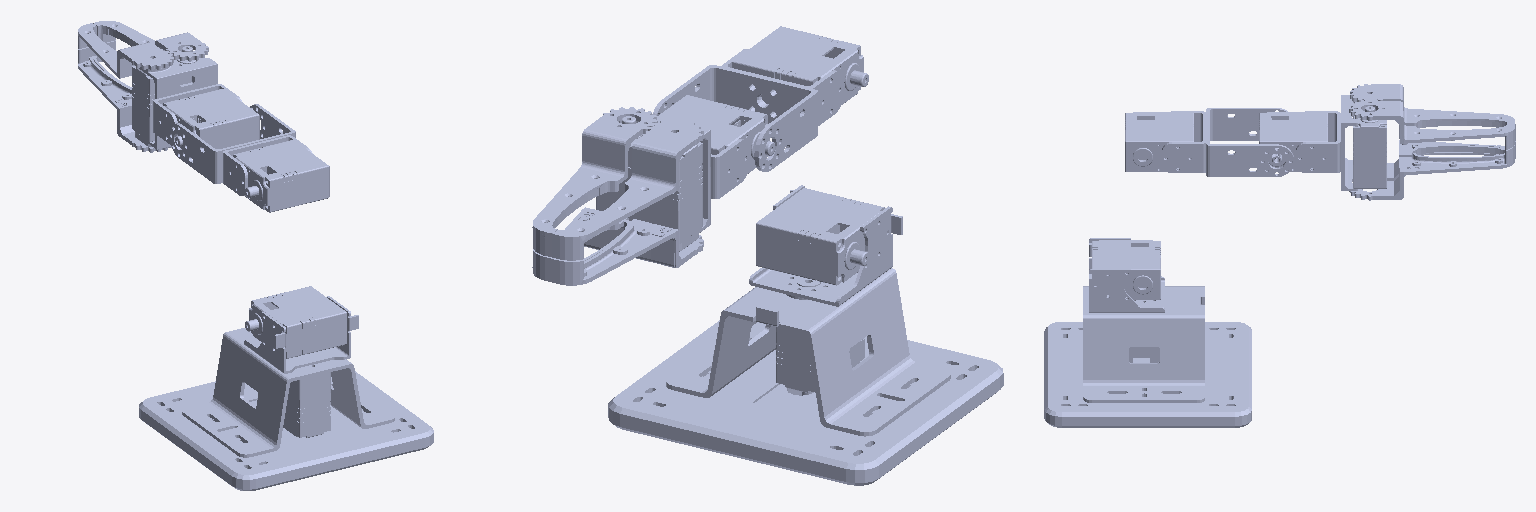
URDF robot description (test4_dof):
<?xml version="1.0" encoding="utf-8"?>
<!-- This URDF was automatically created by SolidWorks to URDF Exporter! Originally created by [author] ([email redacted]) 
     Commit Version: 1.6.0-4-g7f85cfe  Build Version: 1.6.7995.38578
     For more information, please see http://wiki.ros.org/sw_urdf_exporter -->
<robot
  name="test4_dof">
  <link
    name="base_link">
    <inertial>
      <origin
        xyz="6.91778333546156E-09 -0.000987638055765809 0.00969950688294337"
        rpy="0 0 0" />
      <mass
        value="0.170234591037879" />
      <inertia
        ixx="0.000190344867929517"
        ixy="-1.49585044599948E-11"
        ixz="-2.8775220588689E-12"
        iyy="0.000209895117595717"
        iyz="-4.25280510149572E-08"
        izz="0.000385505347421722" />
    </inertial>
    <visual>
      <origin
        xyz="0 0 0"
        rpy="0 0 0" />
      <geometry>
        <mesh
          filename="package://test4_dof/meshes/base_link.STL" />
      </geometry>
      <material
        name="">
        <color
          rgba="0.792156862745098 0.819607843137255 0.933333333333333 1" />
      </material>
    </visual>
    <collision>
      <origin
        xyz="0 0 0"
        rpy="0 0 0" />
      <geometry>
        <mesh
          filename="package://test4_dof/meshes/base_link.STL" />
      </geometry>
    </collision>
  </link>
  <link
    name="link0">
    <inertial>
      <origin
        xyz="-0.000148686471246825 -0.0108477499496043 0.0127257064637936"
        rpy="0 0 0" />
      <mass
        value="0.0134533721751118" />
      <inertia
        ixx="2.84098753200003E-06"
        ixy="-3.43071595594826E-09"
        ixz="5.30738424474808E-11"
        iyy="2.18307388098522E-06"
        iyz="2.00194190669691E-07"
        izz="3.55990656348061E-06" />
    </inertial>
    <visual>
      <origin
        xyz="0 0 0"
        rpy="0 0 0" />
      <geometry>
        <mesh
          filename="package://test4_dof/meshes/link0.STL" />
      </geometry>
      <material
        name="">
        <color
          rgba="0.792156862745098 0.819607843137255 0.933333333333333 1" />
      </material>
    </visual>
    <collision>
      <origin
        xyz="0 0 0"
        rpy="0 0 0" />
      <geometry>
        <mesh
          filename="package://test4_dof/meshes/link0.STL" />
      </geometry>
    </collision>
  </link>
  <joint
    name="joint0"
    type="revolute">
    <origin
      xyz="0 -0.0025385993980081 0.0537499999998391"
      rpy="0 0 0" />
    <parent
      link="base_link" />
    <child
      link="link0" />
    <axis
      xyz="0 0 -1" />
    <limit
      lower="-2"
      upper="2"
      effort="100"
      velocity="1" />
  </joint>
  <link
    name="link1">
    <inertial>
      <origin
        xyz="-2.62658045313557E-09 -0.0345571058935115 0.0254946423103066"
        rpy="0 0 0" />
      <mass
        value="0.0120579589553567" />
      <inertia
        ixx="7.19129614481569E-06"
        ixy="-6.77986390248764E-09"
        ixz="7.40575972855583E-21"
        iyy="5.27353232807871E-06"
        iyz="-2.10034290442944E-19"
        izz="2.71342255945596E-06" />
    </inertial>
    <visual>
      <origin
        xyz="0 0 0"
        rpy="0 0 0" />
      <geometry>
        <mesh
          filename="package://test4_dof/meshes/link1.STL" />
      </geometry>
      <material
        name="">
        <color
          rgba="0.792156862745098 0.819607843137255 0.933333333333333 1" />
      </material>
    </visual>
    <collision>
      <origin
        xyz="0 0 0"
        rpy="0 0 0" />
      <geometry>
        <mesh
          filename="package://test4_dof/meshes/link1.STL" />
      </geometry>
    </collision>
  </link>
  <joint
    name="joint1"
    type="revolute">
    <origin
      xyz="0.0257499999999922 -0.000816386290255001 0.0178942036737967"
      rpy="-1.57079632679482 0 1.5707963267949" />
    <parent
      link="link0" />
    <child
      link="link1" />
    <axis
      xyz="0 0 1" />
    <limit
      lower="-0.9"
      upper="1.5"
      effort="100"
      velocity="1" />
  </joint>
  <link
    name="link2">
    <inertial>
      <origin
        xyz="0.0265477568891185 5.89201853973265E-10 0.0209223131306843"
        rpy="0 0 0" />
      <mass
        value="0.0163235420272894" />
      <inertia
        ixx="4.24056894578293E-06"
        ixy="3.38988499063682E-09"
        ixz="-3.36881501952343E-09"
        iyy="6.33118981534796E-06"
        iyz="-4.63361203939211E-15"
        izz="3.44644530707849E-06" />
    </inertial>
    <visual>
      <origin
        xyz="0 0 0"
        rpy="0 0 0" />
      <geometry>
        <mesh
          filename="package://test4_dof/meshes/link2.STL" />
      </geometry>
      <material
        name="">
        <color
          rgba="0.792156862745098 0.819607843137255 0.933333333333333 1" />
      </material>
    </visual>
    <collision>
      <origin
        xyz="0 0 0"
        rpy="0 0 0" />
      <geometry>
        <mesh
          filename="package://test4_dof/meshes/link2.STL" />
      </geometry>
    </collision>
  </link>
  <joint
    name="joint2"
    type="revolute">
    <origin
      xyz="0 -0.0813988613306236 0.00495000000000783"
      rpy="0 0 0" />
    <parent
      link="link1" />
    <child
      link="link2" />
    <axis
      xyz="0 0 1" />
    <limit
      lower="-3.14"
      upper="0.9"
      effort="100"
      velocity="1" />
  </joint>
  <link
    name="link3">
    <inertial>
      <origin
        xyz="0.0338316024275452 -8.95955161251266E-05 0.0210634009704761"
        rpy="0 0 0" />
      <mass
        value="0.0266121463125793" />
      <inertia
        ixx="6.11128645475265E-06"
        ixy="-1.41339391030596E-12"
        ixz="-2.37103119931184E-07"
        iyy="5.9084006432695E-06"
        iyz="3.31921416471981E-09"
        izz="5.13314117763411E-06" />
    </inertial>
    <visual>
      <origin
        xyz="0 0 0"
        rpy="0 0 0" />
      <geometry>
        <mesh
          filename="package://test4_dof/meshes/link3.STL" />
      </geometry>
      <material
        name="">
        <color
          rgba="0.792156862745098 0.819607843137255 0.933333333333333 1" />
      </material>
    </visual>
    <collision>
      <origin
        xyz="0 0 0"
        rpy="0 0 0" />
      <geometry>
        <mesh
          filename="package://test4_dof/meshes/link3.STL" />
      </geometry>
    </collision>
  </link>
  <joint
    name="joint3"
    type="revolute">
    <origin
      xyz="0.0773744306653128 0 0"
      rpy="0 0 0" />
    <parent
      link="link2" />
    <child
      link="link3" />
    <axis
      xyz="0 0 1" />
    <limit
      lower="-2"
      upper="1.5"
      effort="100"
      velocity="1" />
  </joint>
  <link
    name="link4_0">
    <inertial>
      <origin
        xyz="-0.0026092 0.032103 -0.029491"
        rpy="0 0 0" />
      <mass
        value="0.022434" />
      <inertia
        ixx="1.8333E-05"
        ixy="-1.1611E-07"
        ixz="-5.0997E-08"
        iyy="2.0192E-06"
        iyz="-7.2284E-07"
        izz="1.7661E-05" />
    </inertial>
    <visual>
      <origin
        xyz="0 0 0"
        rpy="0 0 0" />
      <geometry>
        <mesh
          filename="package://test4_dof/meshes/link4_0.STL" />
      </geometry>
      <material
        name="">
        <color
          rgba="0.79216 0.81961 0.93333 1" />
      </material>
    </visual>
    <collision>
      <origin
        xyz="0 0 0"
        rpy="0 0 0" />
      <geometry>
        <mesh
          filename="package://test4_dof/meshes/link4_0.STL" />
      </geometry>
    </collision>
  </link>
  <joint
    name="joint4_0"
    type="revolute">
    <origin
      xyz="0.053675 -0.0263 0.0213"
      rpy="1.5708 1.5708 0" />
    <parent
      link="link3" />
    <child
      link="link4_0" />
    <axis
      xyz="0 0 -1" />
    <limit
      lower="0"
      upper="2"
      effort="100"
      velocity="1" />
  </joint>
</robot>

--- What the picture shows (computed from the rendered views, not written in the file) ---
The picture shows the robot from 3 angles, left to right: view 1: azimuth 30°, elevation 25°; view 2: azimuth 150°, elevation 25°; view 3: azimuth 270°, elevation 25°; orthographic projection.
Model test4_dof with 6 links and 5 joints (5 revolute), rooted at base_link, posed every joint at zero.
Links seen in each view (by area): view 1: base_link, link2, link3, link0, link4_0; view 2: base_link, link4_0, link2, link0, link3; view 3: base_link, link2, link4_0, link3, link0.
Link boxes in pixels (bbox=[...]): base_link: bbox=[139, 328, 433, 490]; link2: bbox=[170, 104, 329, 212]; link3: bbox=[132, 46, 259, 149]; link0: bbox=[244, 286, 358, 373]; link4_0: bbox=[78, 21, 208, 152]; base_link: bbox=[608, 268, 1003, 485]; link4_0: bbox=[532, 107, 703, 285]; link2: bbox=[652, 26, 868, 171]; link0: bbox=[749, 185, 902, 306]; link3: bbox=[596, 95, 774, 251]; base_link: bbox=[1044, 286, 1251, 427]; link2: bbox=[1125, 108, 1293, 176]; link4_0: bbox=[1349, 84, 1515, 200]; link3: bbox=[1259, 95, 1386, 190]; link0: bbox=[1089, 238, 1164, 312].
Size in the robot's own frame: 0.1276 by 0.2719 by 0.1798 metres.
Meshes: 6 distinct files referenced, 5 mesh visuals loaded (5 binary STL); not drawn: 1 (reference not matched to a file when rendering).